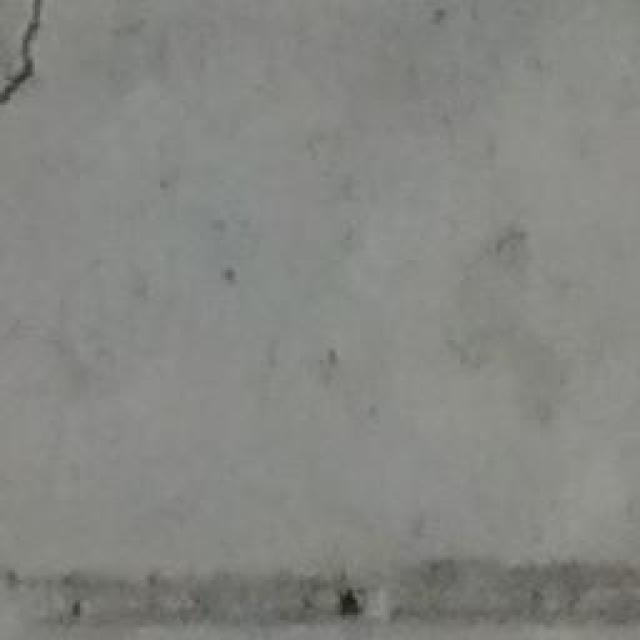Longitudinal: (0, 0, 52, 125)
